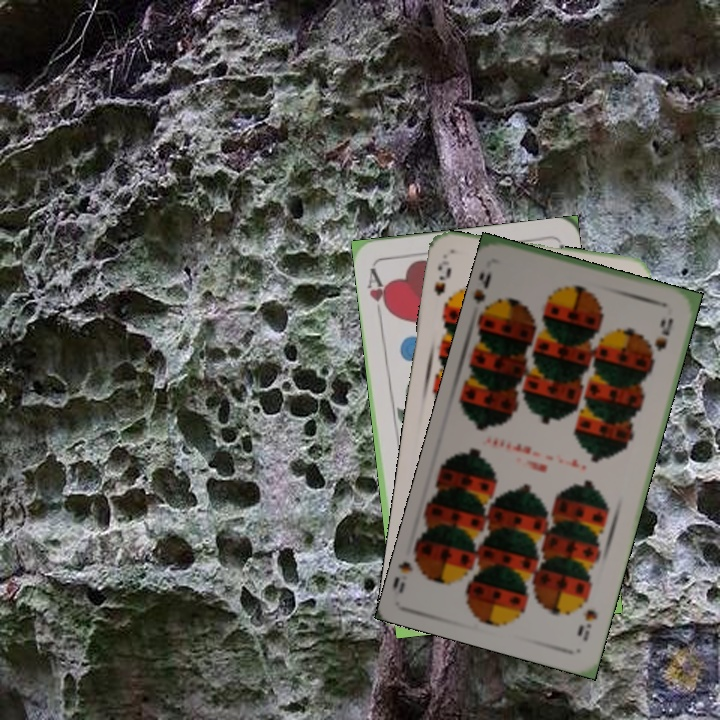HA: (363, 263, 393, 316)
S9: (430, 263, 456, 315), (475, 266, 500, 319), (573, 605, 600, 644)
